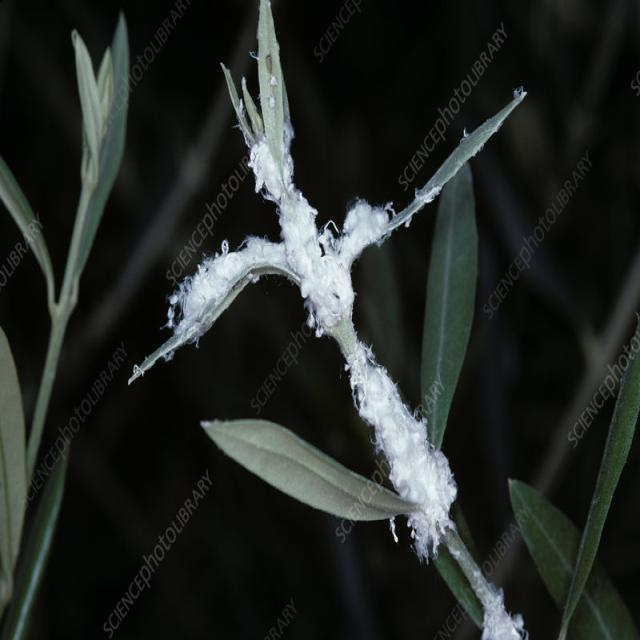Psyllid: (250, 133, 456, 548), (165, 236, 300, 343), (333, 199, 393, 269), (478, 583, 528, 639)
